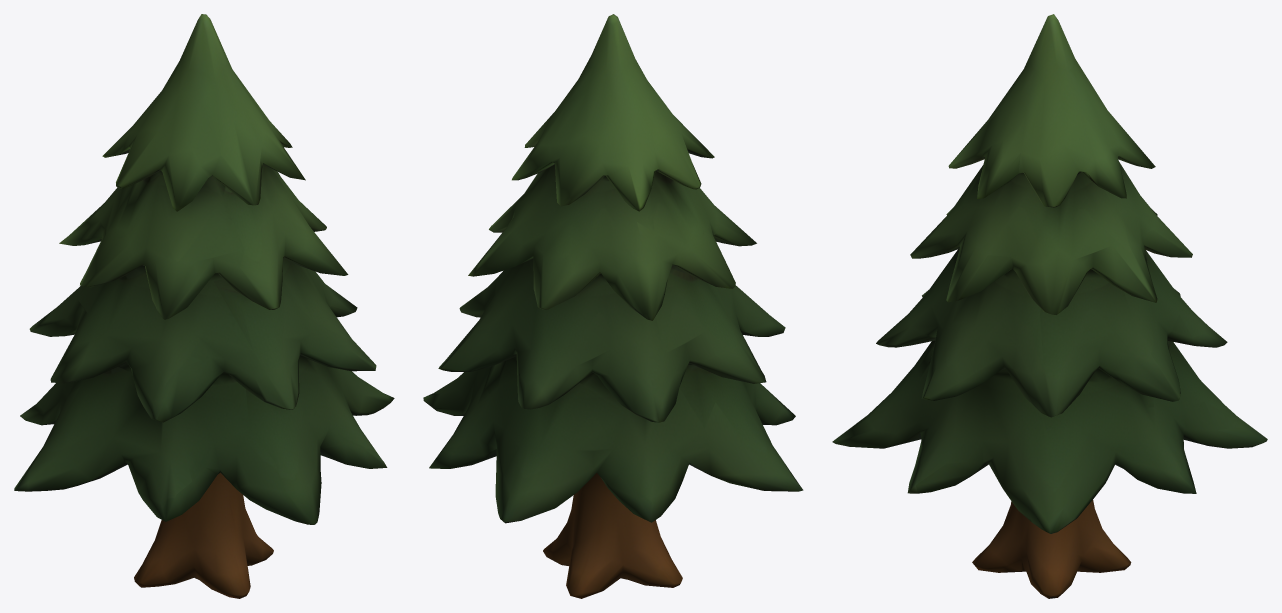
The model's file is Pinheiro Leve.glb.
The picture shows the model from 3 angles, left to right: view 1: azimuth 30°, elevation 25°; view 2: azimuth 150°, elevation 25°; view 3: azimuth 270°, elevation 25°; orthographic projection.
Parts seen in each view (by area): view 1: model; view 2: model; view 3: model.
Part boxes in pixels (x1,y1,x2,y2): model: (14,14,394,598); model: (423,14,803,598); model: (832,14,1267,598).
Size of the model in its own units: 1.36 by 1.9 by 1.36.
1 material, 1 textured.
